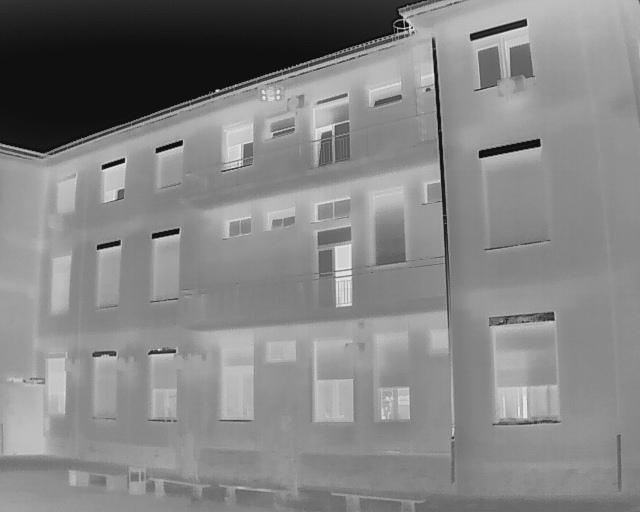drone: (246, 81, 287, 110)
